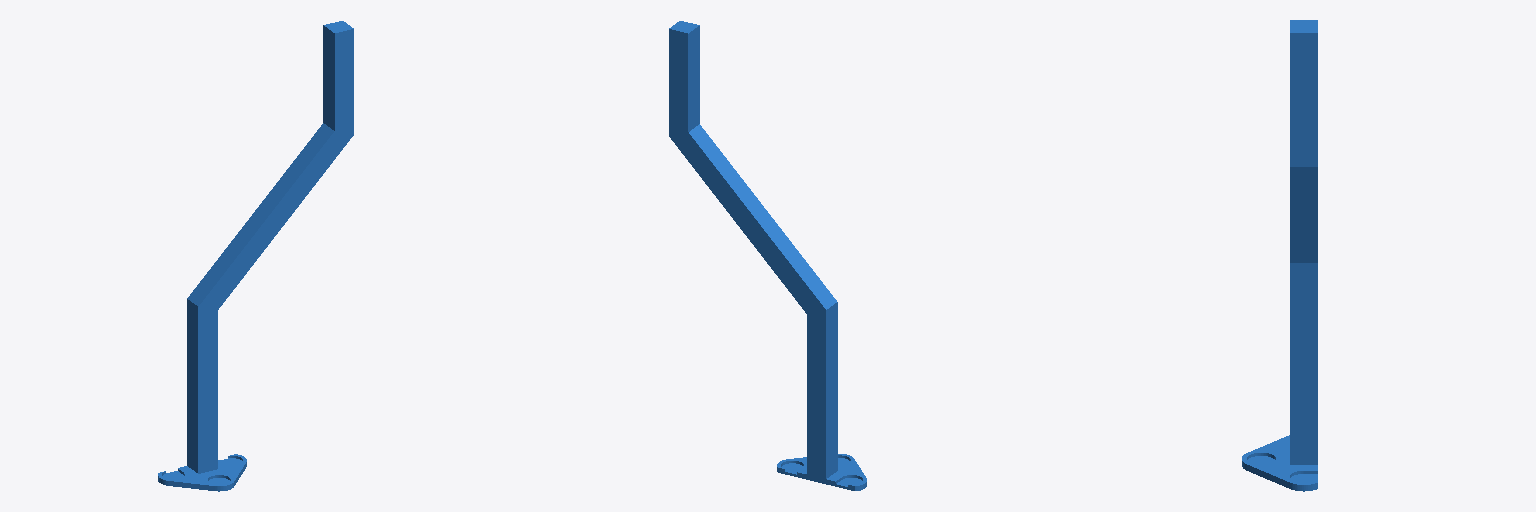
robot.urdf — puzzle_B:
<?xml version="1.0"?>
<!-- puzzle_B: standalone static model from B.step.
     Mesh in millimetres (scale 0.001). Link origin = STEP-file origin, unchanged.
     Mass/inertia assume density 1.24 g/cm^3 -> 30.5 g (material not given in the STEP). -->
<robot name="puzzle_B">
  <material name="puzzle_B_color"><color rgba="0.25 0.55 0.85 1.0"/></material>
  <link name="puzzle_B_link">
    <visual>
      <geometry><mesh filename="meshes/puzzle_B.stl" scale="0.001 0.001 0.001"/></geometry>
      <material name="puzzle_B_color"/>
    </visual>
    <collision>
      <geometry><mesh filename="meshes/puzzle_B.stl" scale="0.001 0.001 0.001"/></geometry>
    </collision>
    <inertial>
      <origin xyz="0.028327 -0.000374 0.094810" rpy="0 0 0"/>
      <mass value="0.03049"/>
      <inertia ixx="1.0602e-04" ixy="-3.2288e-07" ixz="-4.8470e-05" iyy="1.3211e-04" iyz="-1.0961e-06" izz="2.6860e-05"/>
    </inertial>
  </link>
</robot>

--- Render facts (derived) ---
Views: 3 orthographic renders of the robot side by side, from view 1: azimuth 30°, elevation 25°; view 2: azimuth 150°, elevation 25°; view 3: azimuth 270°, elevation 25°.
Model puzzle_B with 1 links and 0 joints (none), rooted at puzzle_B_link, posed all joints at 0.
Links seen in each view (by area): view 1: puzzle_B_link; view 2: puzzle_B_link; view 3: puzzle_B_link.
Link boxes in pixels (<box>): puzzle_B_link: <box>158,21,353,491</box>; puzzle_B_link: <box>669,21,866,490</box>; puzzle_B_link: <box>1242,20,1317,491</box>.
Size in the robot's own frame: 0.0969 by 0.0269 by 0.2025 metres.
1 mesh visuals loaded from 1 distinct referenced files (1 binary STL).
